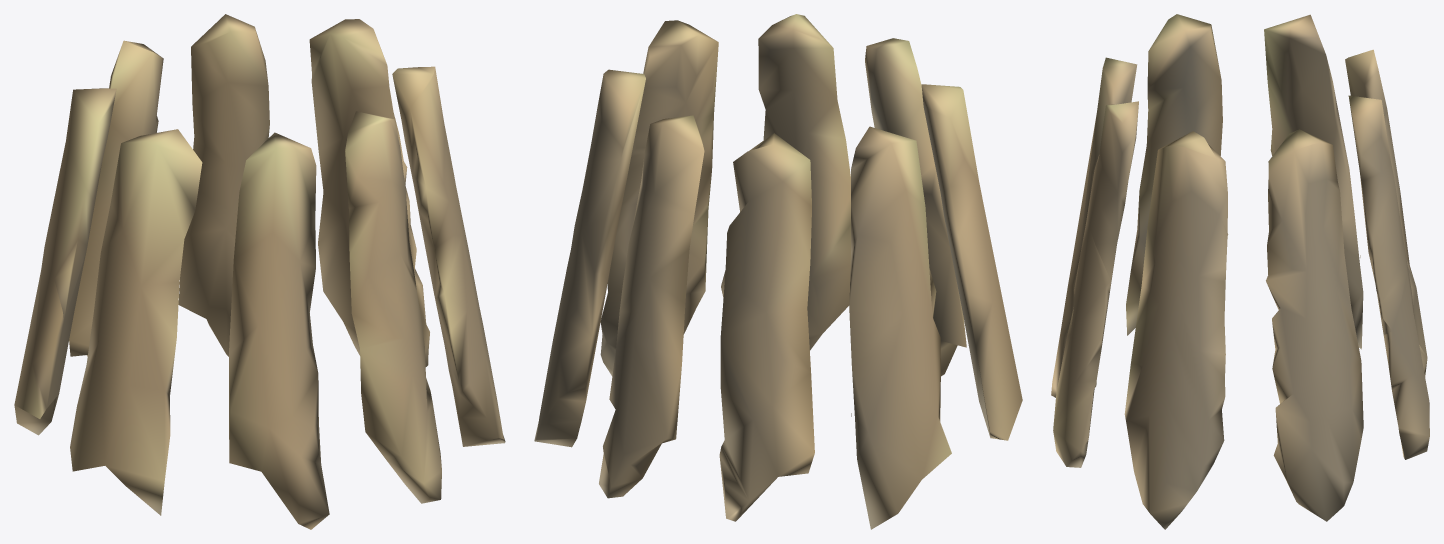
The model's file is husk_rags.glb.
3 views of the same model, side by side, from view 1: azimuth 30°, elevation 25°; view 2: azimuth 150°, elevation 25°; view 3: azimuth 270°, elevation 25° (orthographic). The views are drawn at different scales.
Parts seen in each view (by area): view 1: geometry_0; view 2: geometry_0; view 3: geometry_0.
Part boxes in pixels (x1,y1,x2,y2): geometry_0: (14, 14, 505, 529); geometry_0: (534, 14, 1022, 529); geometry_0: (1051, 14, 1429, 529).
Bounding box in the file's own units: 0.7022 × 0.6281 × 0.6014.
